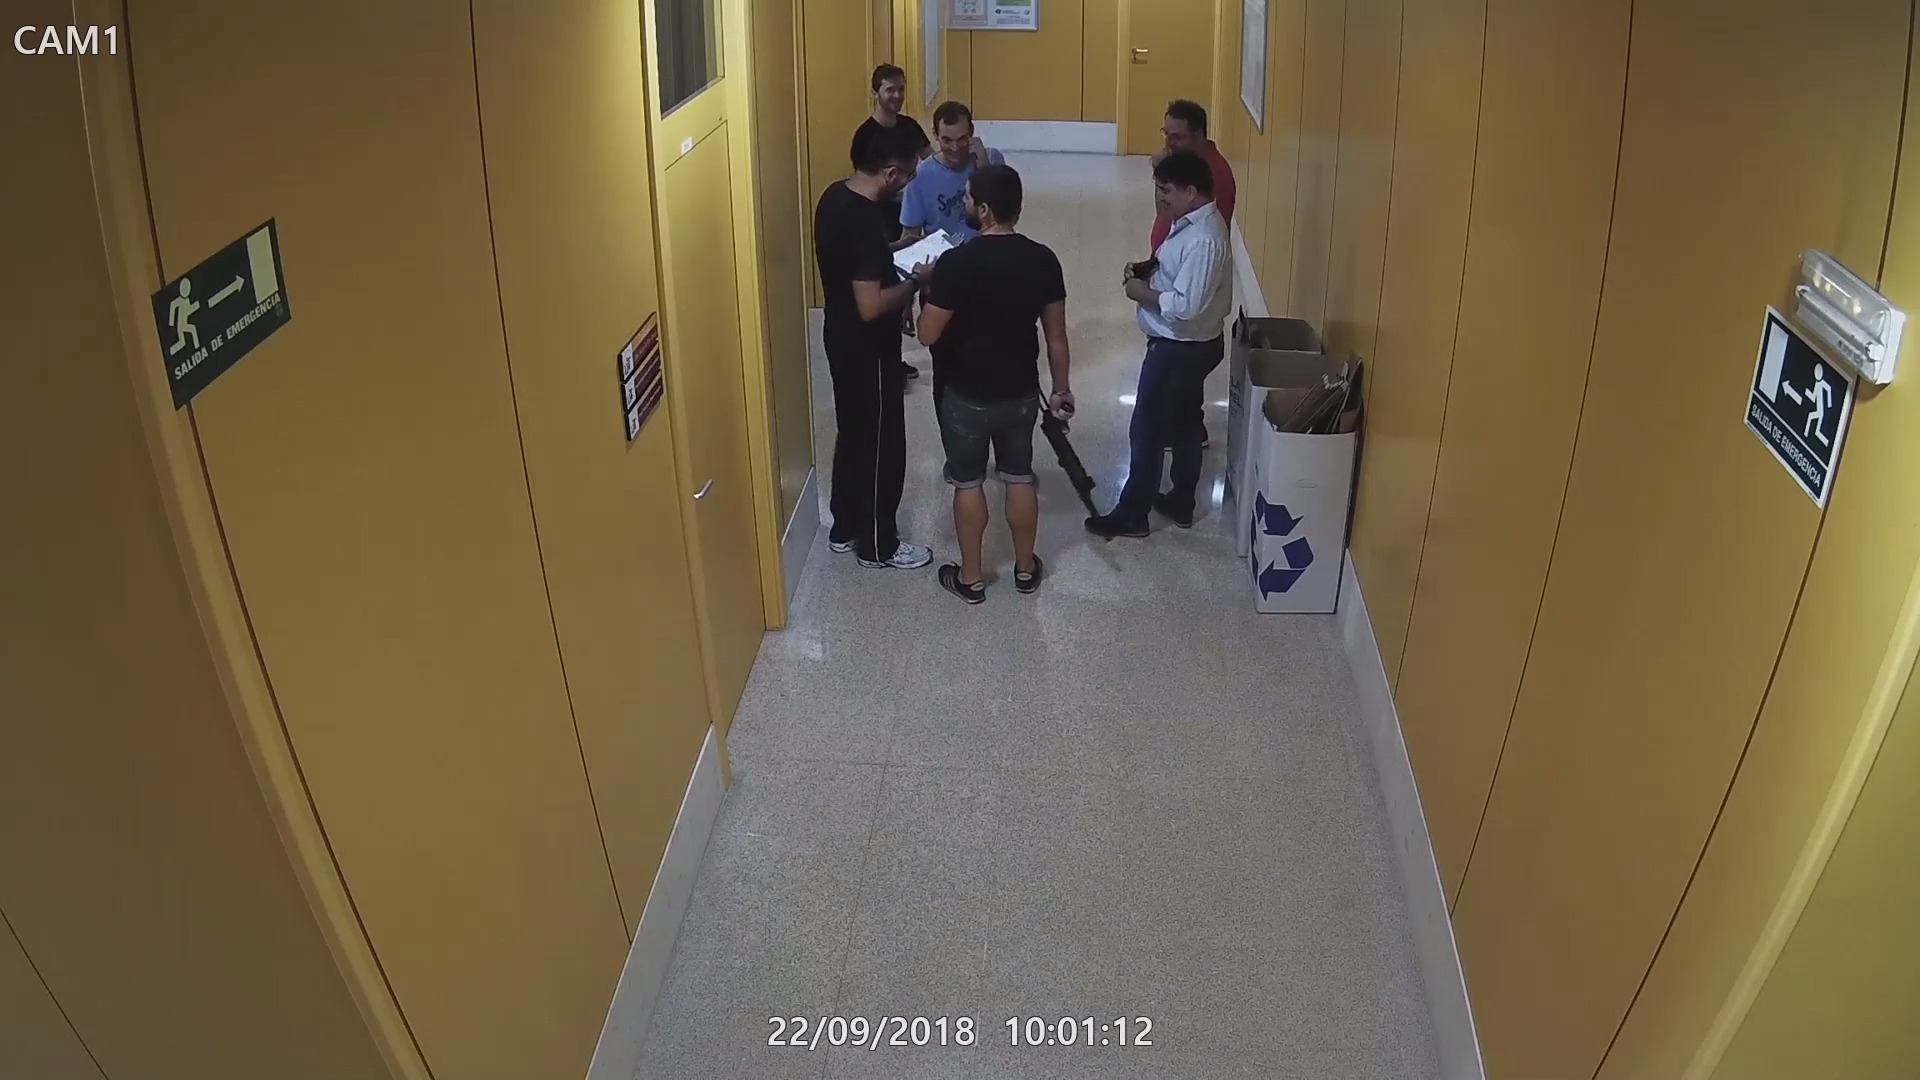Handgun: (1113, 248, 1167, 305)
Short_rifle: (1040, 400, 1117, 551)
